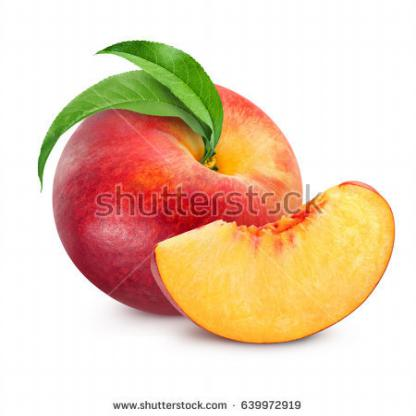peach leaf: (34, 69, 205, 186), (99, 34, 221, 147)
